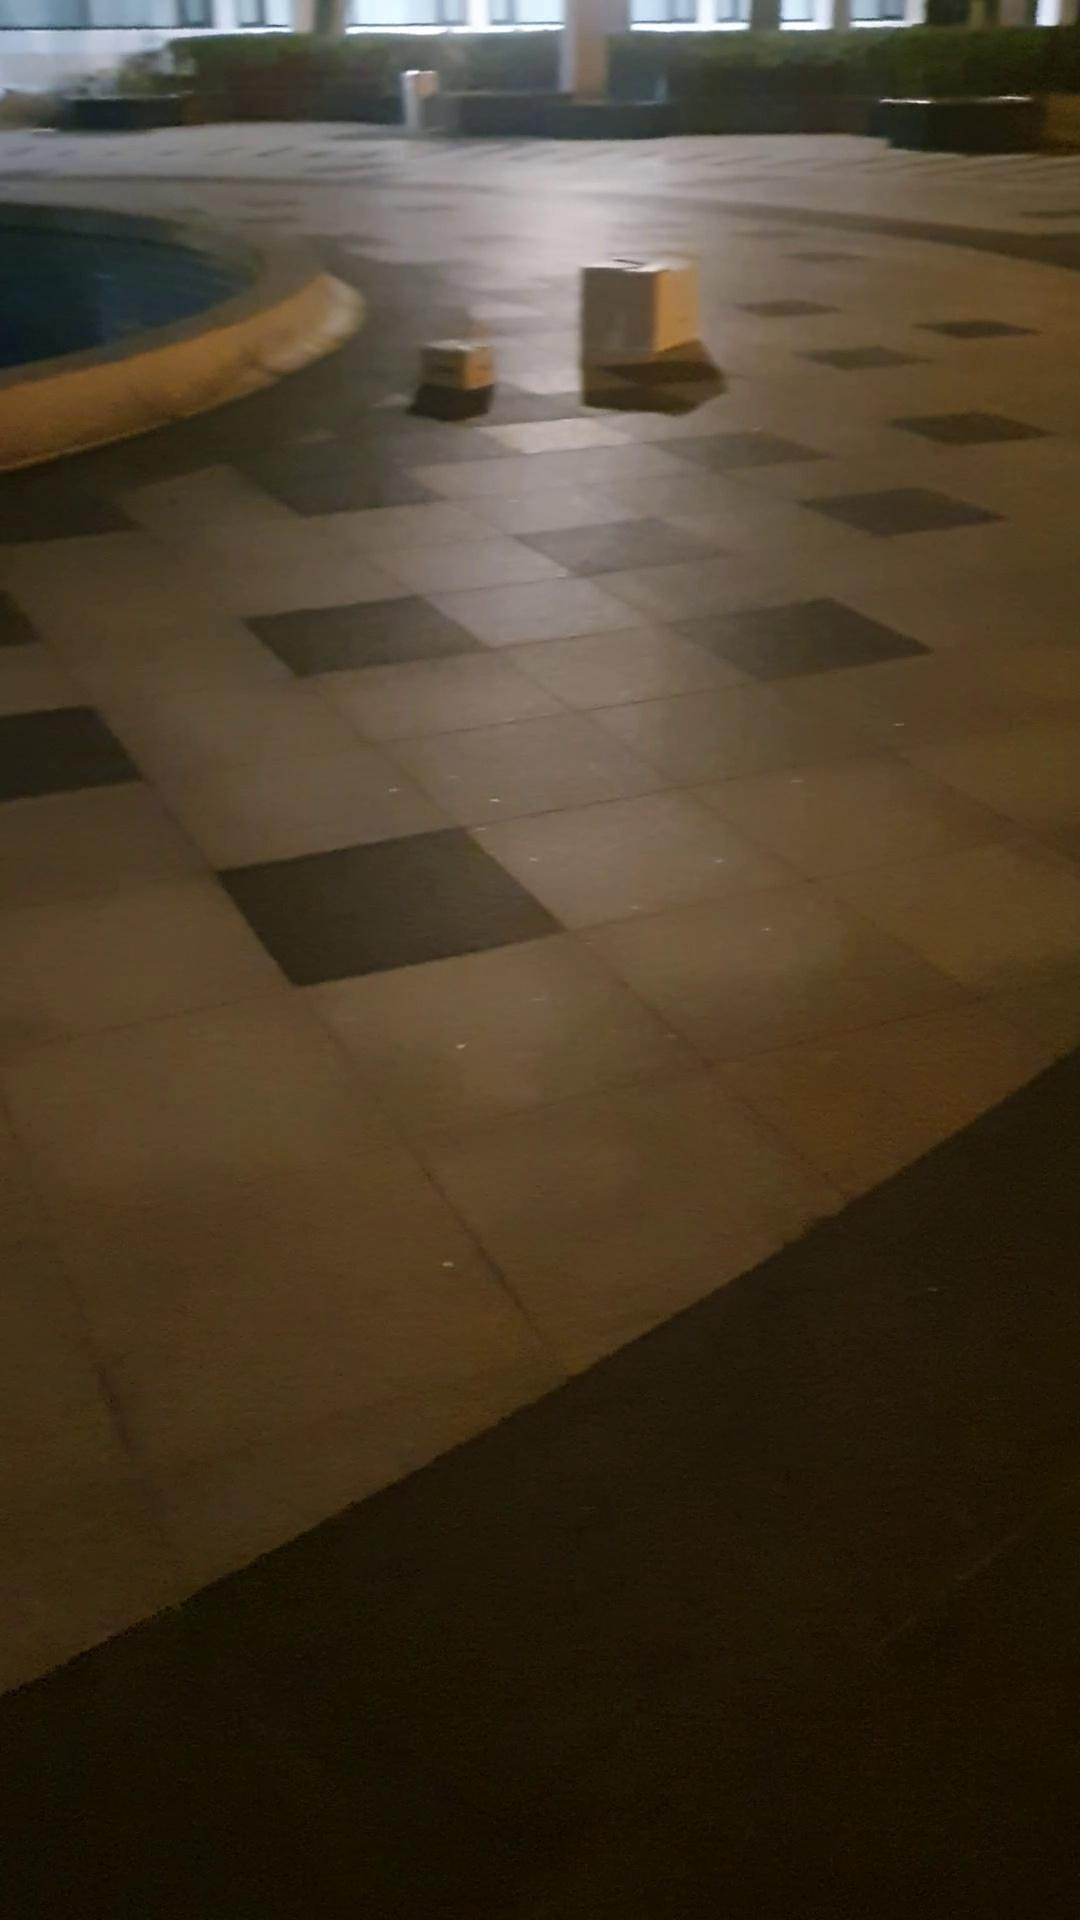Box: (576, 253, 702, 375), (401, 323, 518, 398)
